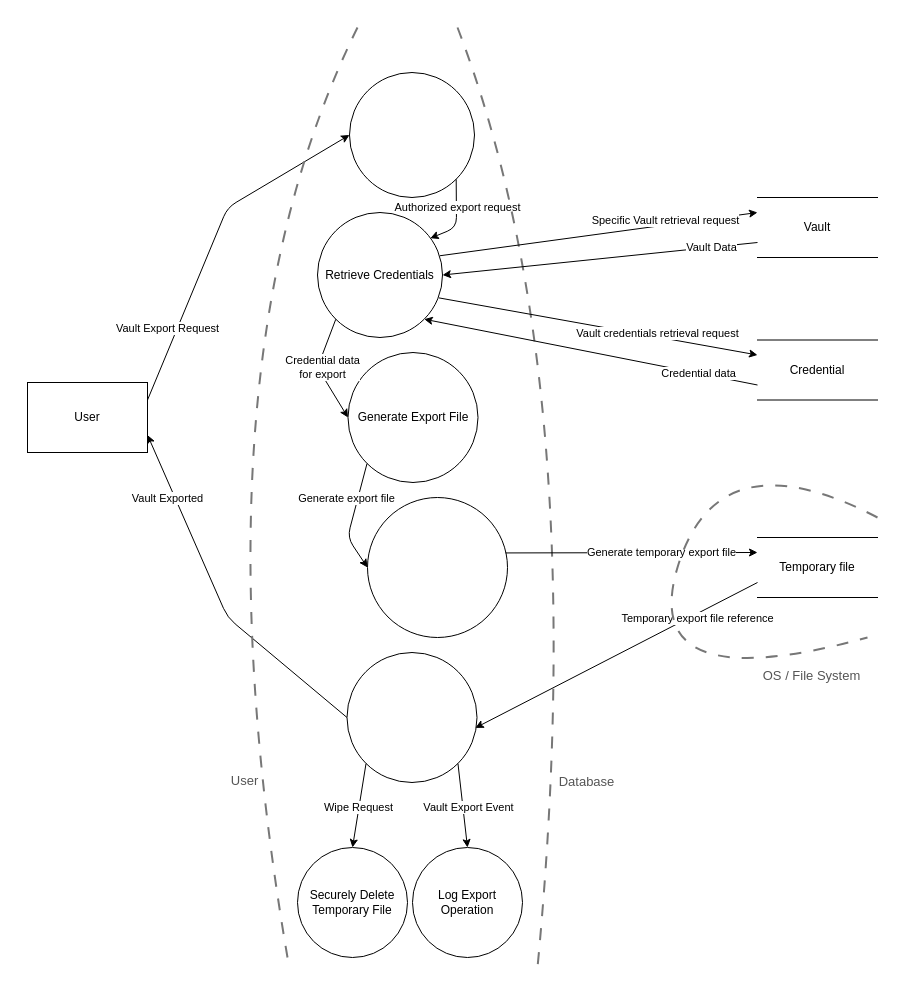
Image size: 905x995. Some labels were removed from this diagram. The shapes that lost their labels are listed below. From the top down, each one's box as (x1, y1, x2, y2) in pixels, then its label:
(348, 72, 474, 198): Receive Export Request
(366, 496, 508, 638): Store Temporary Export File
(346, 652, 477, 782): Deliver Export File
